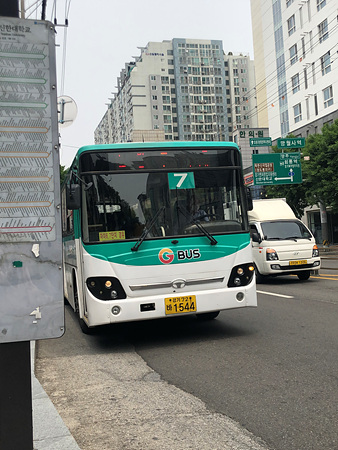bnum: (170, 171, 192, 189)
